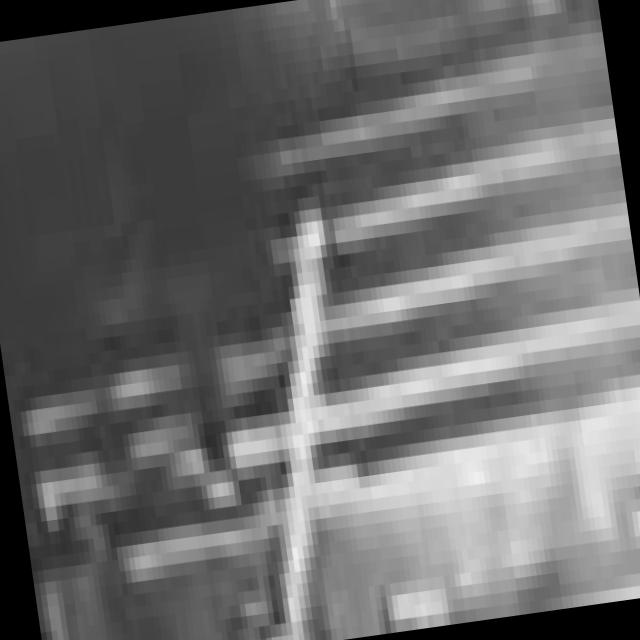stick: (195, 193, 407, 640)
